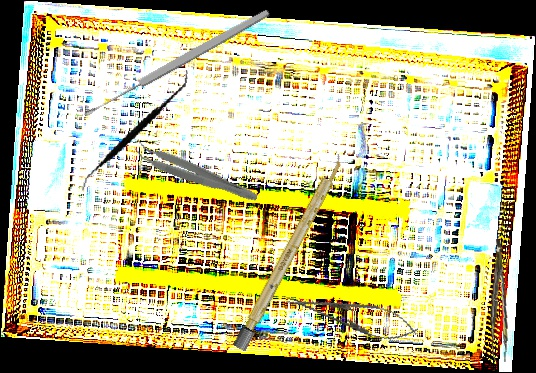Needle Holder: (283, 284, 421, 347)
Scalpel Handle: (232, 152, 348, 352)
Spatula Surgical: (80, 52, 190, 209)
Surgical Spoon: (81, 6, 272, 120)
Tissue Forceps: (130, 138, 262, 206), (485, 239, 517, 362)
